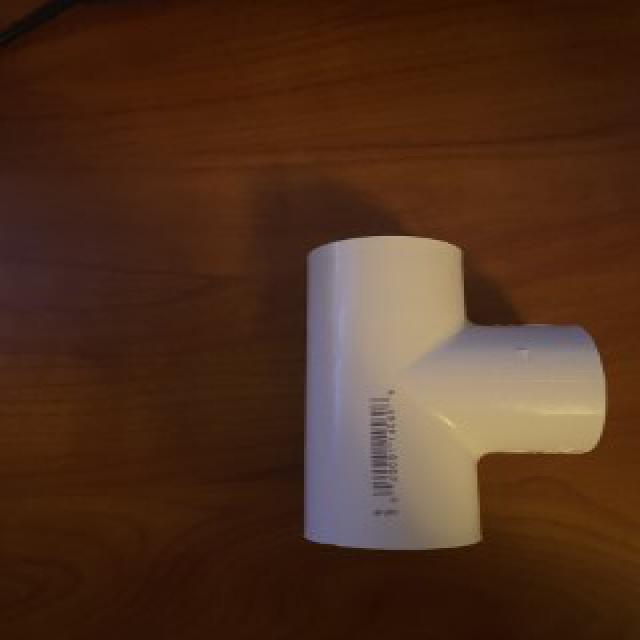T Joint: (302, 236, 606, 553)
